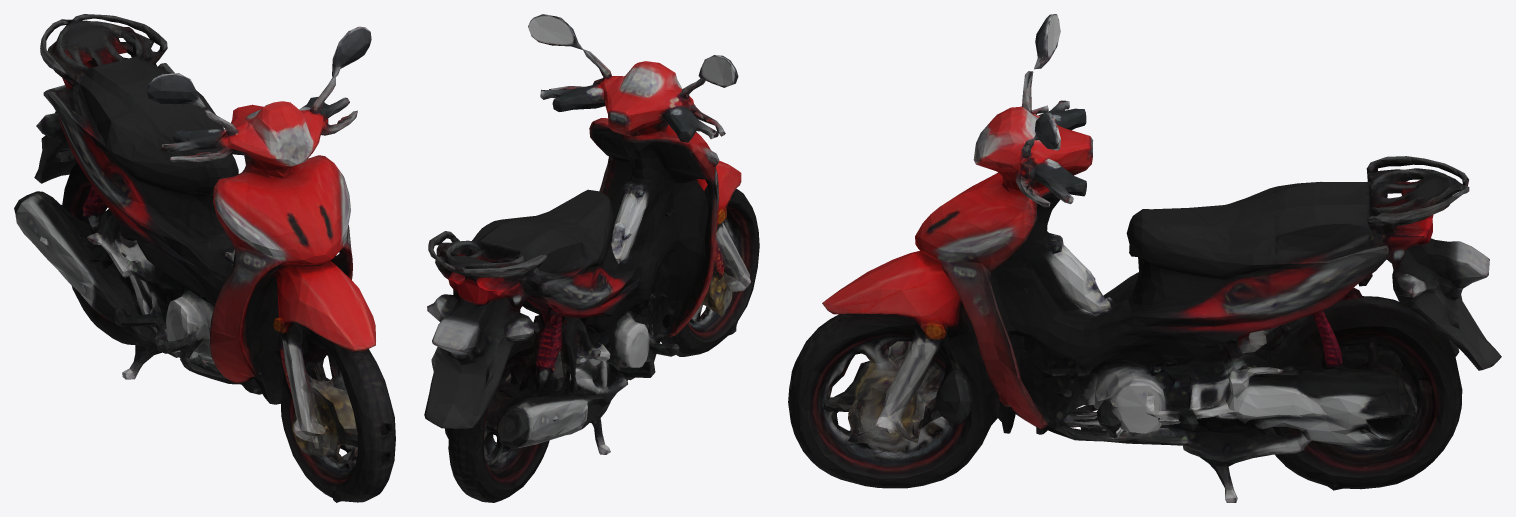
File: KMB 125.glb
The picture shows the model from 3 angles, left to right: view 1: azimuth 30°, elevation 25°; view 2: azimuth 150°, elevation 25°; view 3: azimuth 270°, elevation 25°; orthographic projection. The views are drawn at different scales.
Visible parts, largest first — view 1: world; view 2: world; view 3: world.
Part boxes in pixels (x1,y1,x2,y2): world: [14, 14, 395, 502]; world: [424, 14, 759, 502]; world: [788, 14, 1501, 502].
Size of the model in its own units: 0.3943 by 0.6508 by 1.
Materials: 1 (1 with a texture image).
